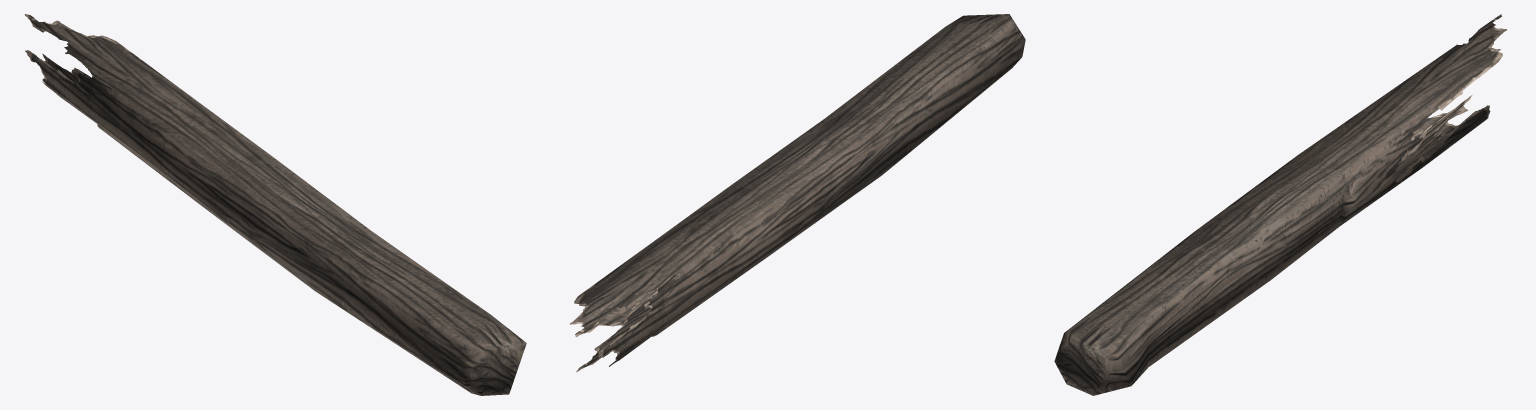
Rendered from Timber_Splinted.fbx.
3 views of the same model, side by side, from view 1: azimuth 30°, elevation 25°; view 2: azimuth 150°, elevation 25°; view 3: azimuth 330°, elevation 25° (orthographic). The views are drawn at different scales.
Parts seen in each view (by area): view 1: Timber_splinted; view 2: Timber_splinted; view 3: Timber_splinted.
Part boxes in pixels (left/top/right/bottom): Timber_splinted: left=24, top=14, right=526, bottom=395; Timber_splinted: left=570, top=14, right=1025, bottom=371; Timber_splinted: left=1054, top=14, right=1506, bottom=395.
Size of the model in its own units: 0.4875 by 0.3857 by 5.79.
